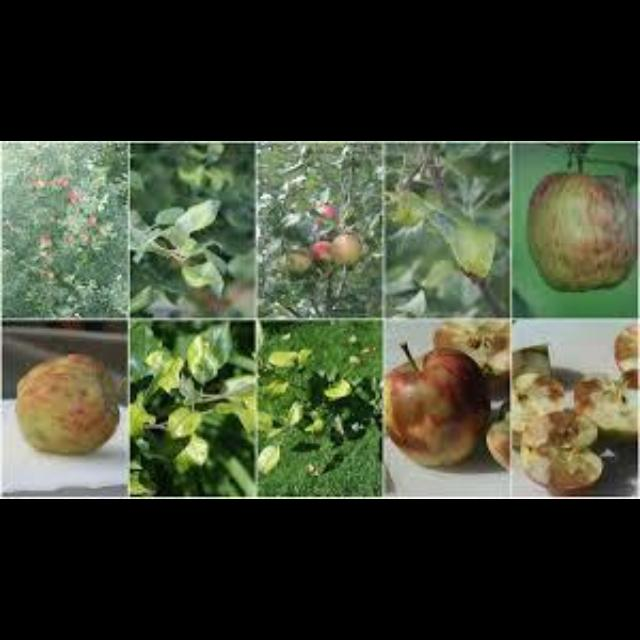apple: (527, 173, 636, 290), (384, 344, 489, 465), (15, 354, 117, 452), (518, 410, 602, 493), (433, 320, 508, 397), (510, 346, 561, 446), (574, 378, 636, 438), (331, 233, 361, 265), (286, 250, 309, 273), (309, 241, 331, 258)
rotten: (527, 173, 636, 290), (384, 344, 489, 465), (15, 354, 117, 452), (433, 320, 508, 397), (512, 346, 561, 444), (574, 378, 636, 438)
